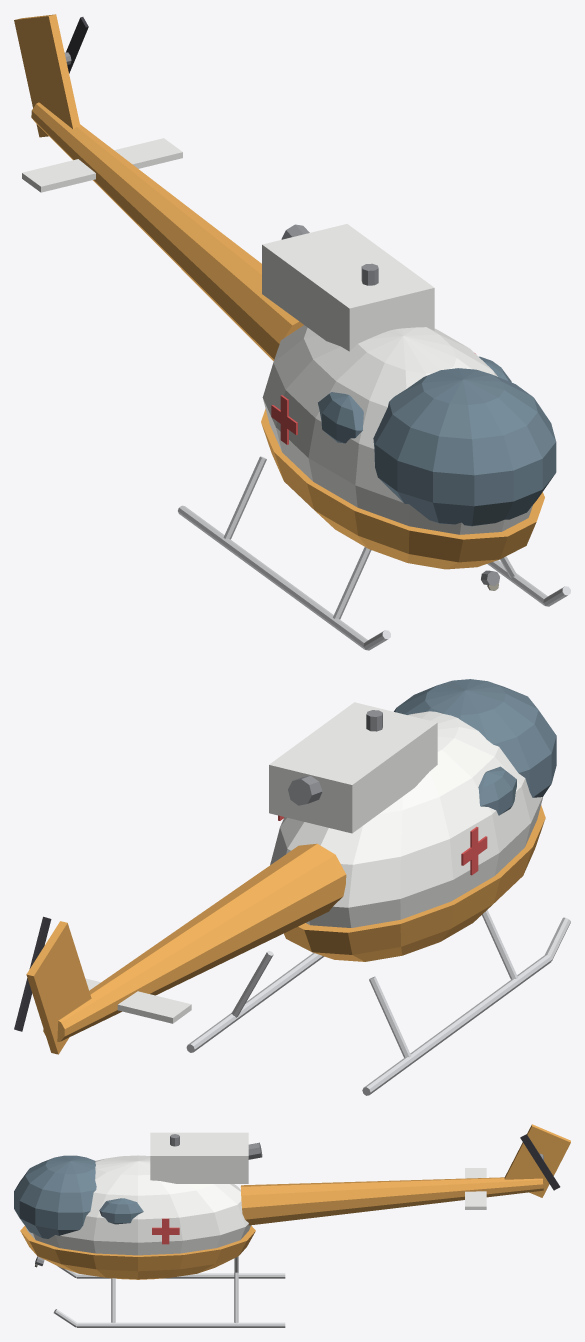
File: HJ_Helicoptero.fbx
3 renders of one model, top to bottom at view 1: azimuth 30°, elevation 25°; view 2: azimuth 150°, elevation 25°; view 3: azimuth 270°, elevation 25°, orthographic. The views are drawn at different scales.
Visible parts, largest first — view 1: HJ_Helicoptero; view 2: HJ_Helicoptero; view 3: HJ_Helicoptero.
Boxes of the visible parts, left/top/right/bottom form: HJ_Helicoptero: left=14, top=14, right=570, bottom=650; HJ_Helicoptero: left=14, top=679, right=570, bottom=1095; HJ_Helicoptero: left=14, top=1124, right=570, bottom=1327.
Bounding box in the file's own units: 2.03 × 3.2 × 9.07.
